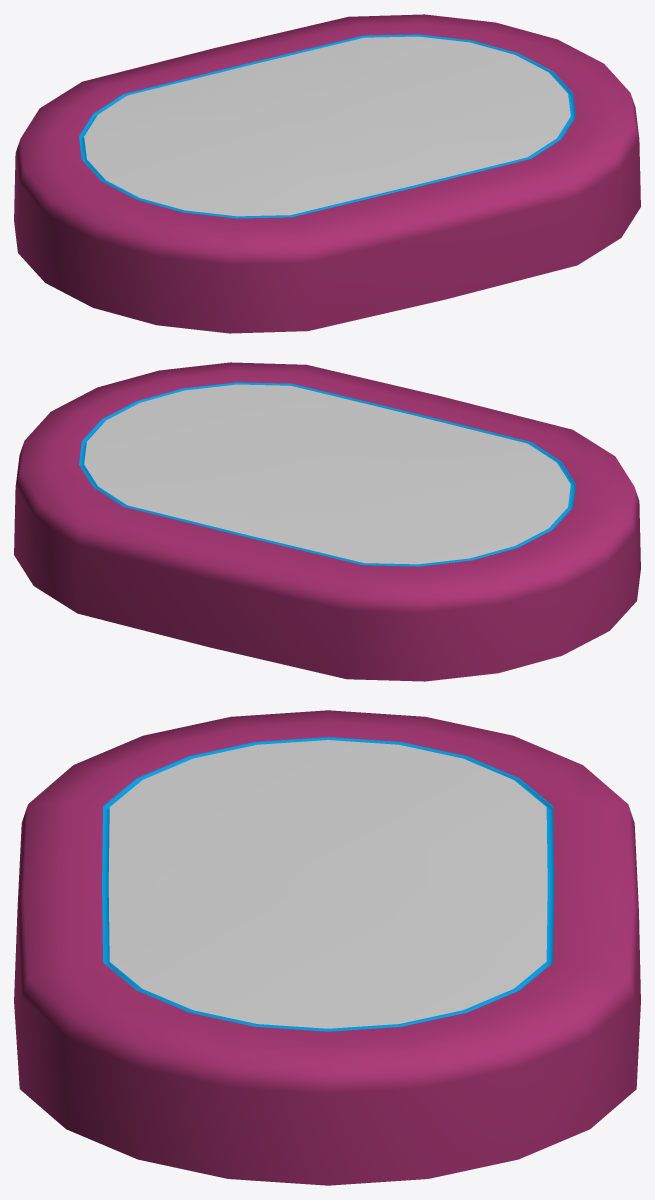
Rendered from _tart.fbx.
The picture shows the model from 3 angles, top to bottom: view 1: azimuth 30°, elevation 25°; view 2: azimuth 150°, elevation 25°; view 3: azimuth 270°, elevation 25°; orthographic projection. The views are drawn at different scales.
Parts seen in each view (by area): view 1: start; view 2: start; view 3: start.
Boxes of the visible parts, box(x1,y1,x2,y2) form: start: box(14, 14, 640, 333); start: box(14, 362, 640, 681); start: box(14, 710, 640, 1185).
Size of the model in its own units: 3562 by 528 by 2562.
